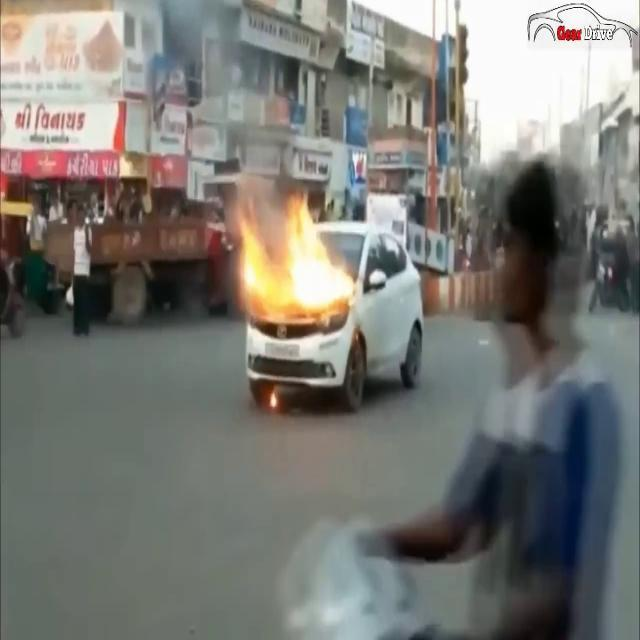Fire: (232, 187, 352, 321)
